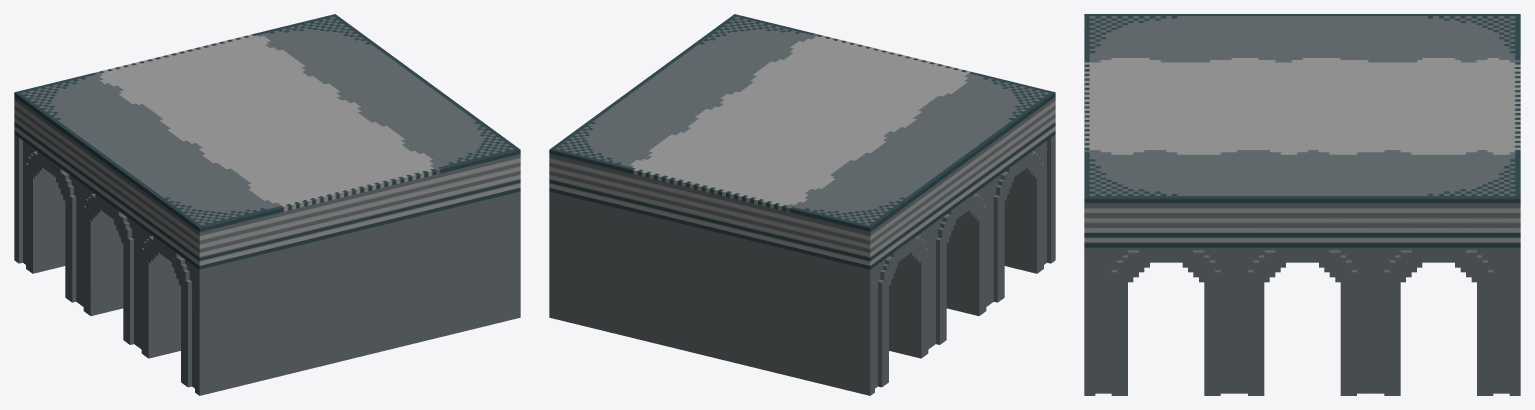
File: bridge_stone.glb
3 views of the same model, side by side, from view 1: azimuth 30°, elevation 25°; view 2: azimuth 150°, elevation 25°; view 3: azimuth 270°, elevation 25° (orthographic). The views are drawn at different scales.
Parts seen in each view (by area): view 1: bridge_stone; view 2: bridge_stone; view 3: bridge_stone.
Part boxes in pixels (x1,y1,x2,y2): bridge_stone: (14,14,520,395); bridge_stone: (549,14,1055,395); bridge_stone: (1084,14,1520,395).
Bounding box in the file's own units: 8 × 4 × 8.
1 material, 1 textured.
